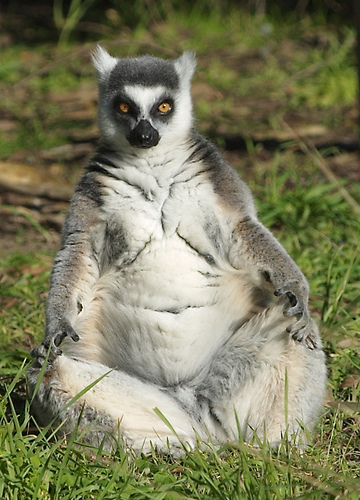cat: (37, 45, 328, 467)
